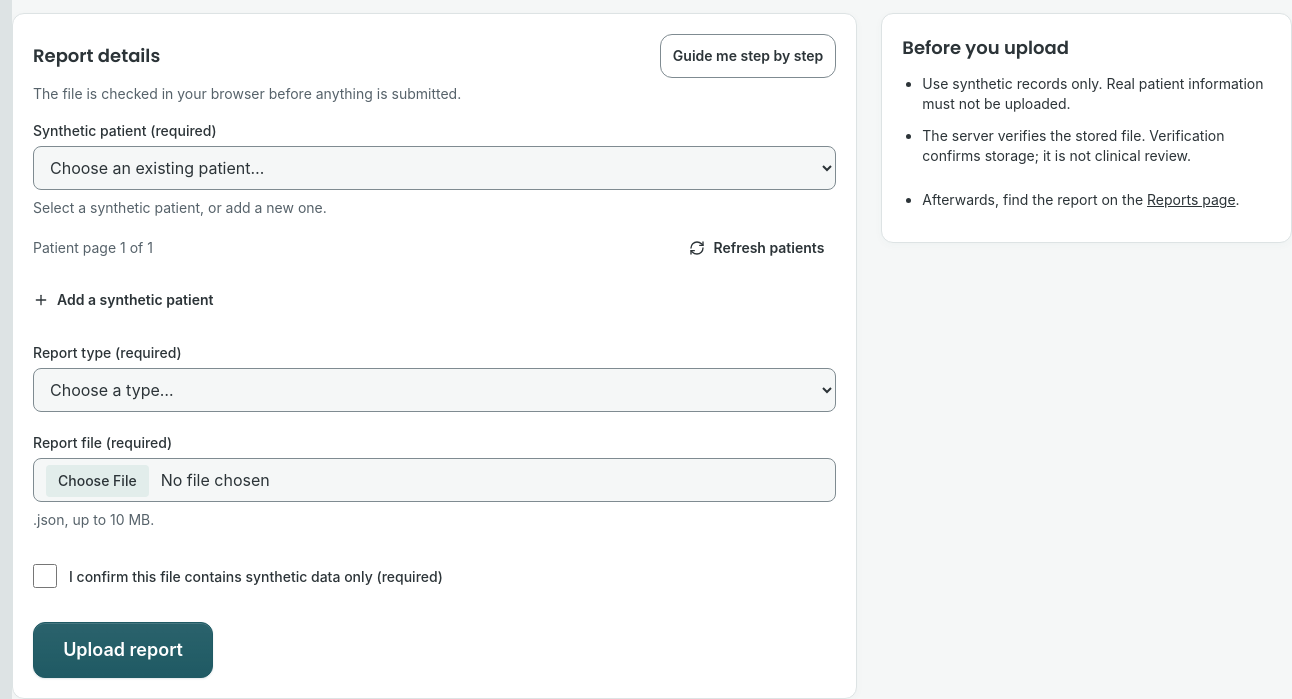
UploadReportPage › shows a field-level error for every empty field and does not submit
(page scrolled)
Click the button "Upload report".
click(123, 650)  # box [33, 622, 213, 678]
(page scrolled)
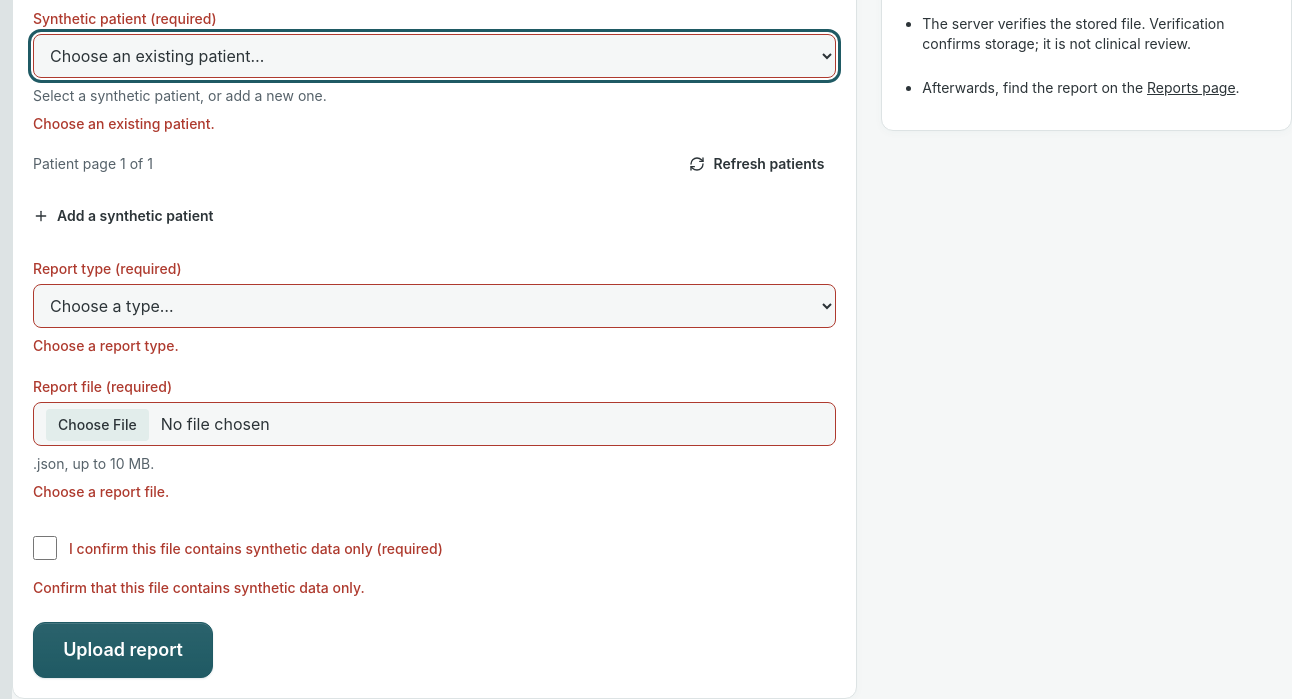
Expected: the text "Choose an existing patient." is shown, [33, 115, 215, 132]
Expected: the text "Choose a report type." is shown, [33, 337, 179, 354]
Expected: the text "Choose a report file." is shown, [33, 483, 169, 500]
